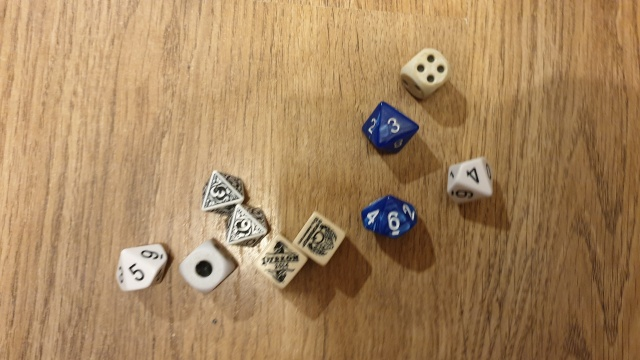d10-3: (356, 98, 423, 159)
d10-4: (442, 152, 499, 208)
d10-5: (107, 233, 174, 298)
d10-6: (351, 188, 426, 241)
d6-1: (178, 235, 239, 294)
d6-4: (397, 42, 455, 103)
d6p-1: (251, 231, 307, 291)
d6p-6: (295, 211, 351, 271)
d8p-3: (199, 166, 248, 219)
d8p-6: (221, 204, 268, 248)
